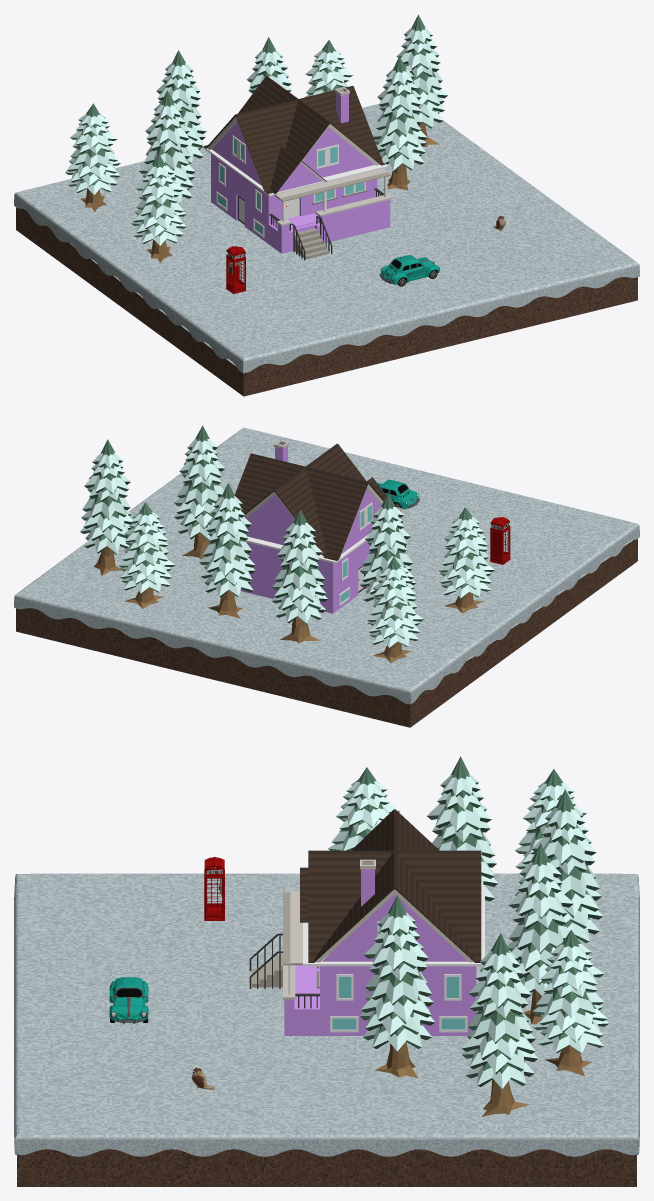
The picture shows the model from 3 angles, top to bottom: view 1: azimuth 30°, elevation 25°; view 2: azimuth 150°, elevation 25°; view 3: azimuth 270°, elevation 25°; orthographic projection. The views are drawn at different scales.
Parts seen in each view (by area): view 1: Cube.003, Cube.391, VEHICLES_VOLKSWAGEN, OBJRANDOM_PHONEBOOTH; view 2: Cube.003, Cube.391, OBJRANDOM_PHONEBOOTH, VEHICLES_VOLKSWAGEN; view 3: Cube.003, Cube.391, VEHICLES_VOLKSWAGEN, OBJRANDOM_PHONEBOOTH.
Boxes of the visible parts, bbox=[...] form: Cube.003: bbox=[14, 14, 639, 396]; Cube.391: bbox=[202, 76, 393, 260]; VEHICLES_VOLKSWAGEN: bbox=[379, 255, 440, 286]; OBJRANDOM_PHONEBOOTH: bbox=[225, 246, 246, 293]; Cube.003: bbox=[14, 425, 639, 727]; Cube.391: bbox=[235, 440, 405, 613]; OBJRANDOM_PHONEBOOTH: bbox=[490, 517, 510, 564]; VEHICLES_VOLKSWAGEN: bbox=[377, 479, 419, 509]; Cube.003: bbox=[14, 756, 639, 1186]; Cube.391: bbox=[249, 809, 484, 1035]; VEHICLES_VOLKSWAGEN: bbox=[109, 977, 148, 1023]; OBJRANDOM_PHONEBOOTH: bbox=[204, 857, 224, 920].
Bounding box in the file's own units: 4040 × 1708 × 4040.
Materials: 40 (3 with a texture image).
